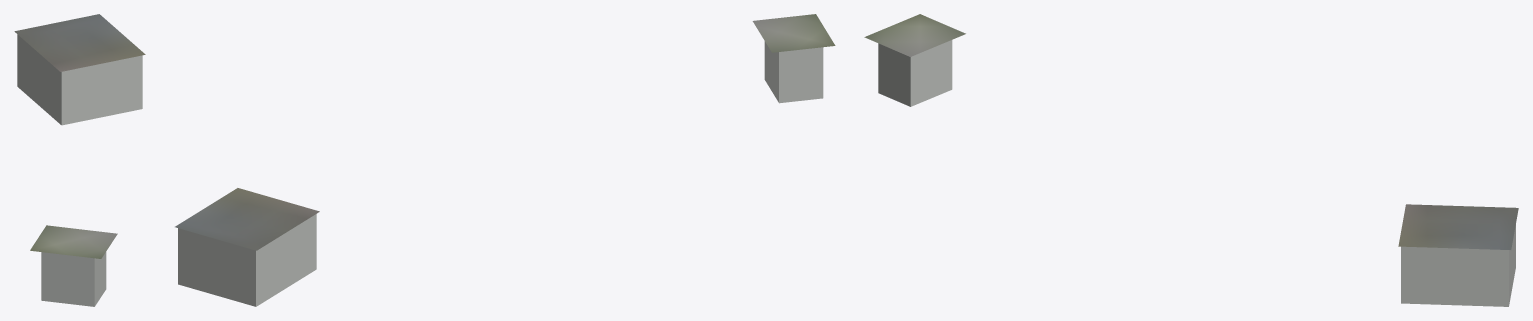
File: LSGG_3_3.glb
The picture shows the model from 3 angles, left to right: view 1: azimuth 30°, elevation 25°; view 2: azimuth 150°, elevation 25°; view 3: azimuth 270°, elevation 25°; orthographic projection. The views are drawn at different scales.
Visible parts, largest first — view 1: building_5a6e7f6864348239, building_0f8c309fd558acde; view 2: building_5a6e7f6864348239, building_0f8c309fd558acde; view 3: building_5a6e7f6864348239, building_0f8c309fd558acde.
Part boxes in pixels (x1,y1,x2,y2): building_5a6e7f6864348239: (17,34,142,306); building_0f8c309fd558acde: (14,14,145,258); building_5a6e7f6864348239: (178,41,823,306); building_0f8c309fd558acde: (175,14,835,250); building_5a6e7f6864348239: (878,40,1515,306); building_0f8c309fd558acde: (864,14,1518,249).
Size of the model in its own units: 42.82 by 12.62 by 65.74.
Materials: 2 (1 with a texture image).
